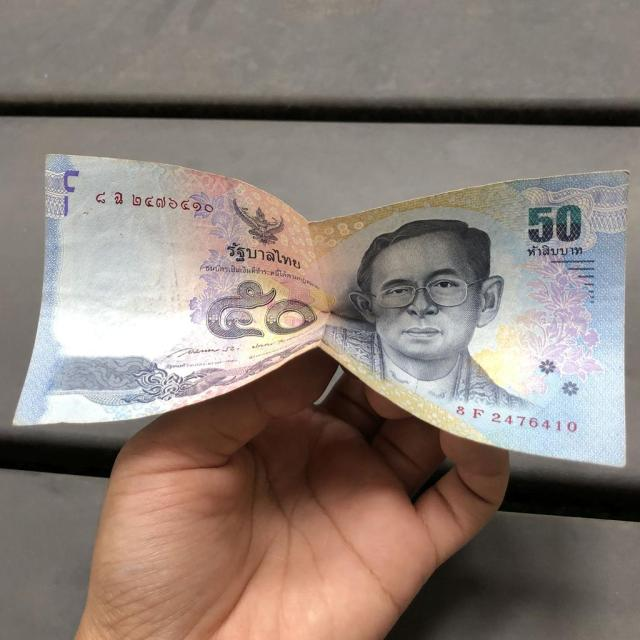THAI50: (12, 155, 629, 470)
